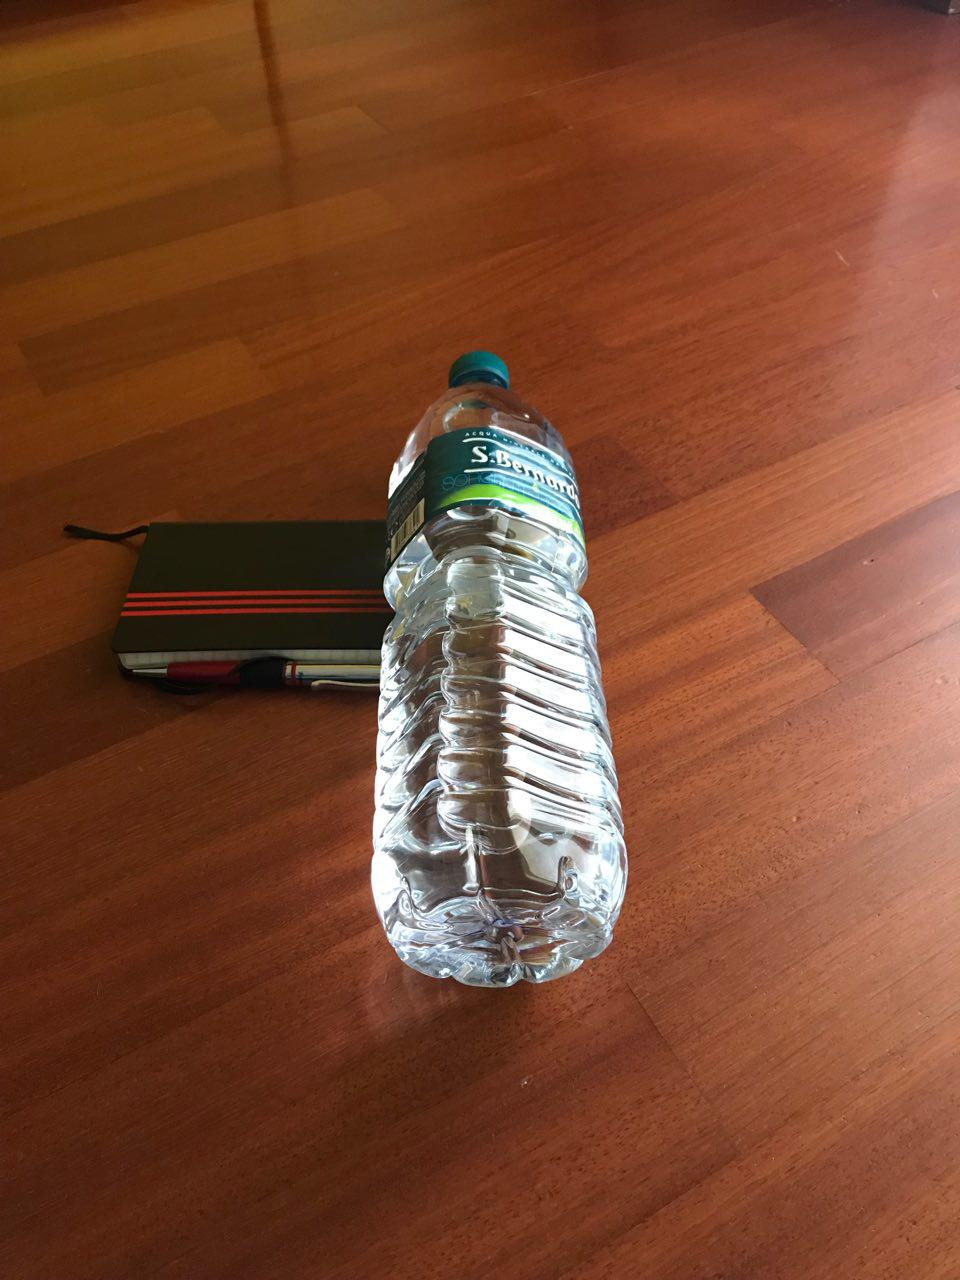san_bernardo: (366, 349, 631, 990)
